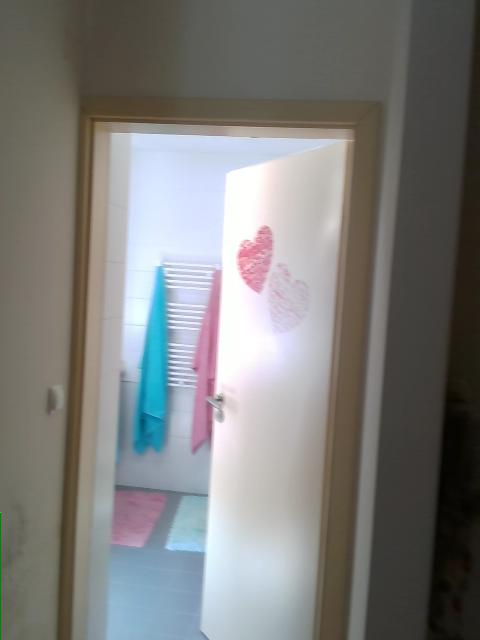semi_door: (61, 89, 384, 639)
